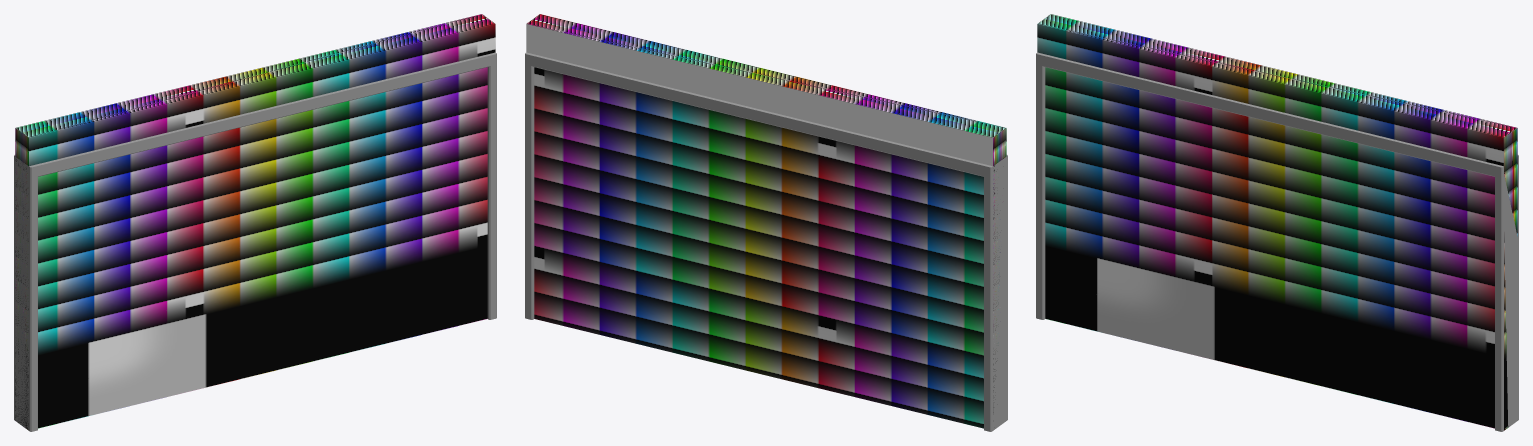
Rendered from interiorGlassWall_line_5_whit.fbx.
3 views of the same model, side by side, from view 1: azimuth 30°, elevation 25°; view 2: azimuth 150°, elevation 25°; view 3: azimuth 330°, elevation 25° (orthographic).
Visible parts, largest first — view 1: trigger, wall; view 2: trigger, wall; view 3: trigger, wall.
Part boxes in pixels (<box>): trigger: <box>15,14,495,429</box>; wall: <box>14,52,496,431</box>; trigger: <box>526,14,1006,428</box>; wall: <box>525,24,1007,431</box>; trigger: <box>1037,14,1517,430</box>; wall: <box>1036,52,1518,431</box>.
Size of what is drawn, in the model's own units: 500 by 300 by 31.96.
